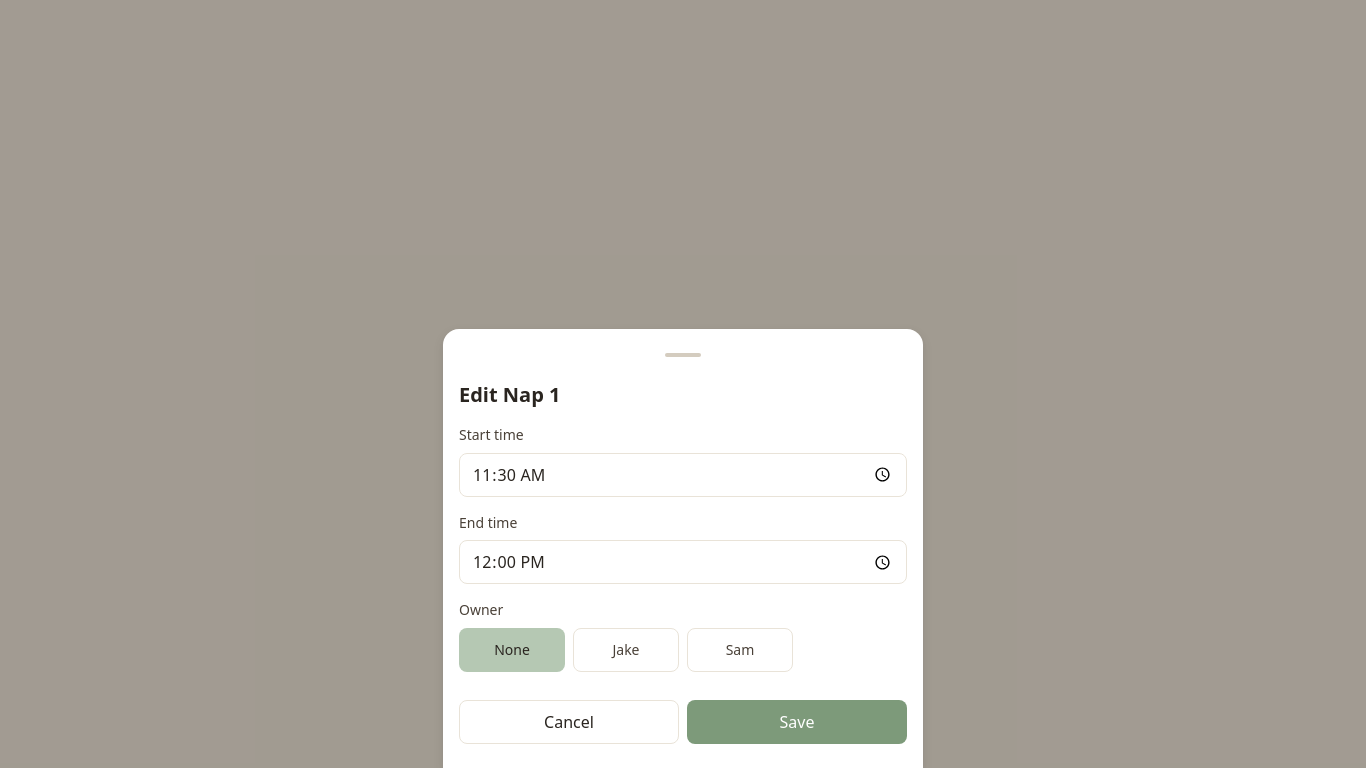
Test: EventEditDrawerV3 › flags overlap with a recorded nap on the same day
Replace the text in the time field labelled "Start time" with "09:00" at (683, 475), box [459,453,907,497]
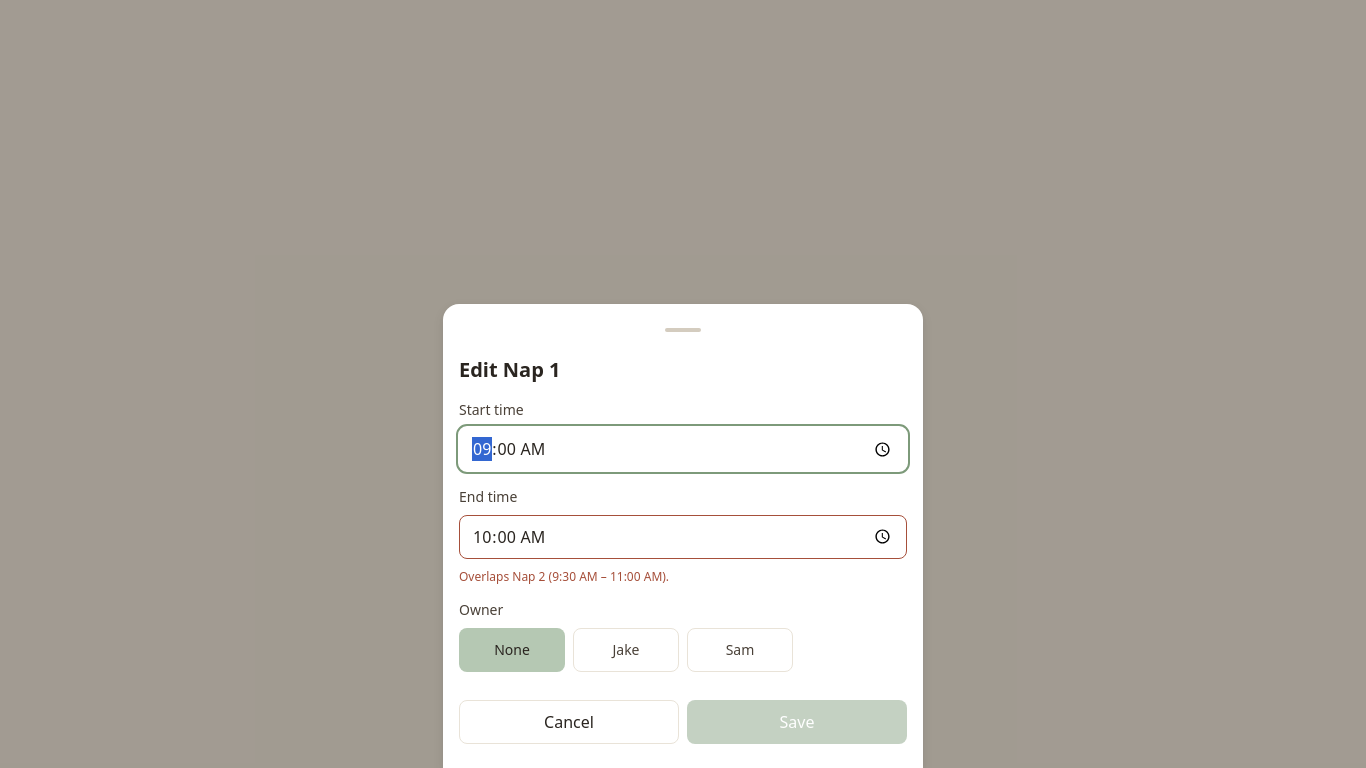
Check: the message shows "Overlaps Nap 2", box [459,568,669,585]
